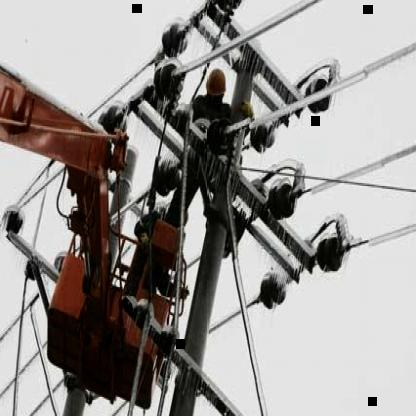helmet: (204, 63, 230, 100)
